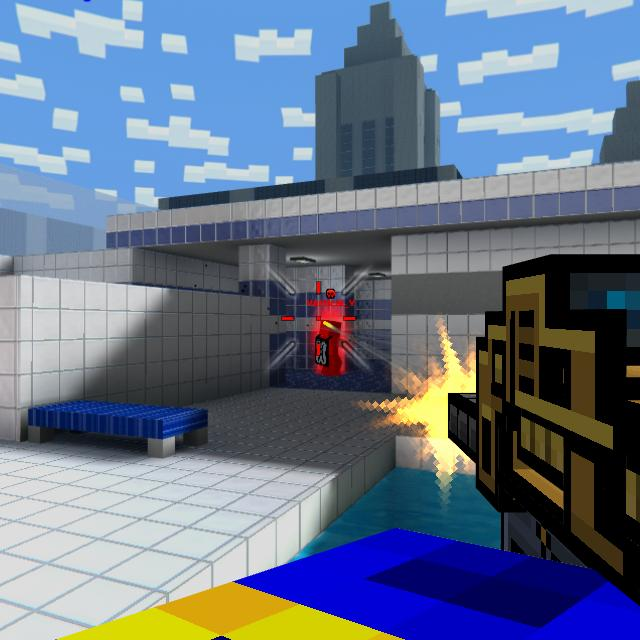Enemy: (315, 320, 349, 377)
